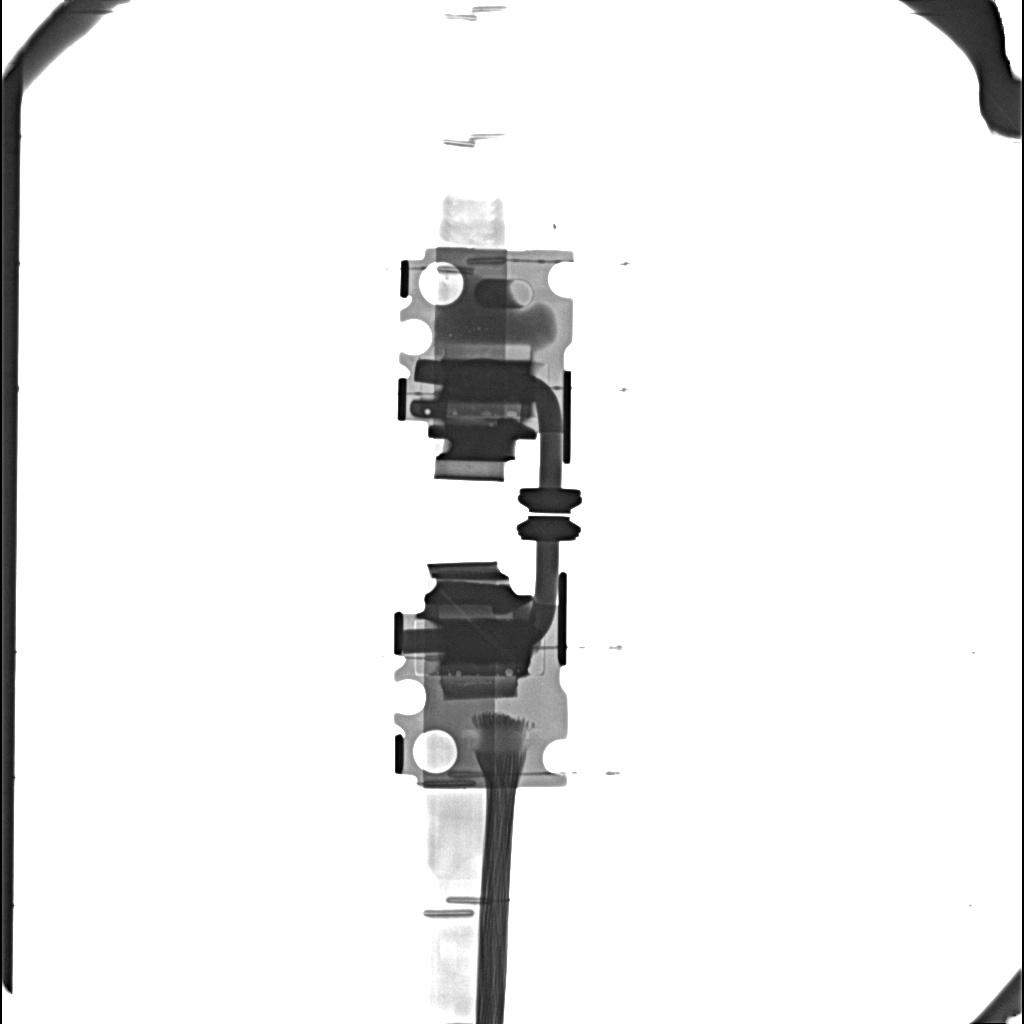PX: (437, 670, 518, 701), (443, 340, 534, 359)
SX: (441, 618, 533, 664), (442, 362, 531, 402)
